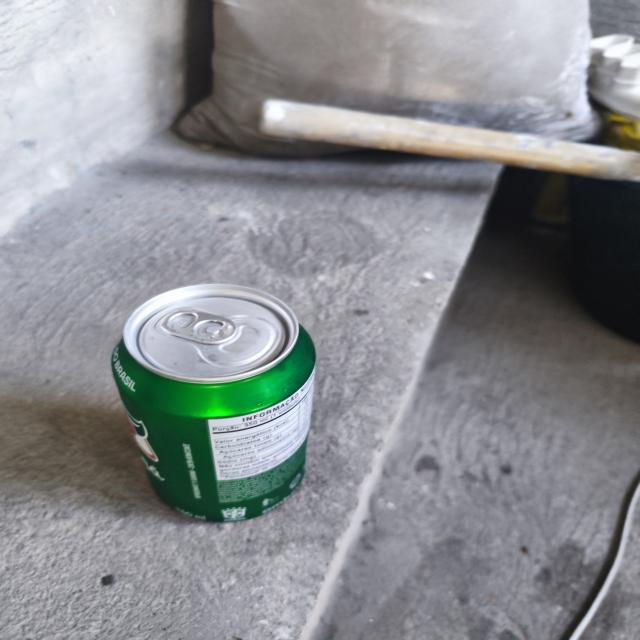Guarana: (104, 269, 356, 546)
